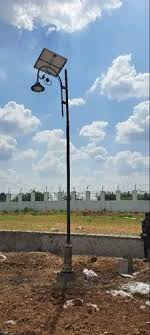light_pole: (54, 56, 78, 289)
